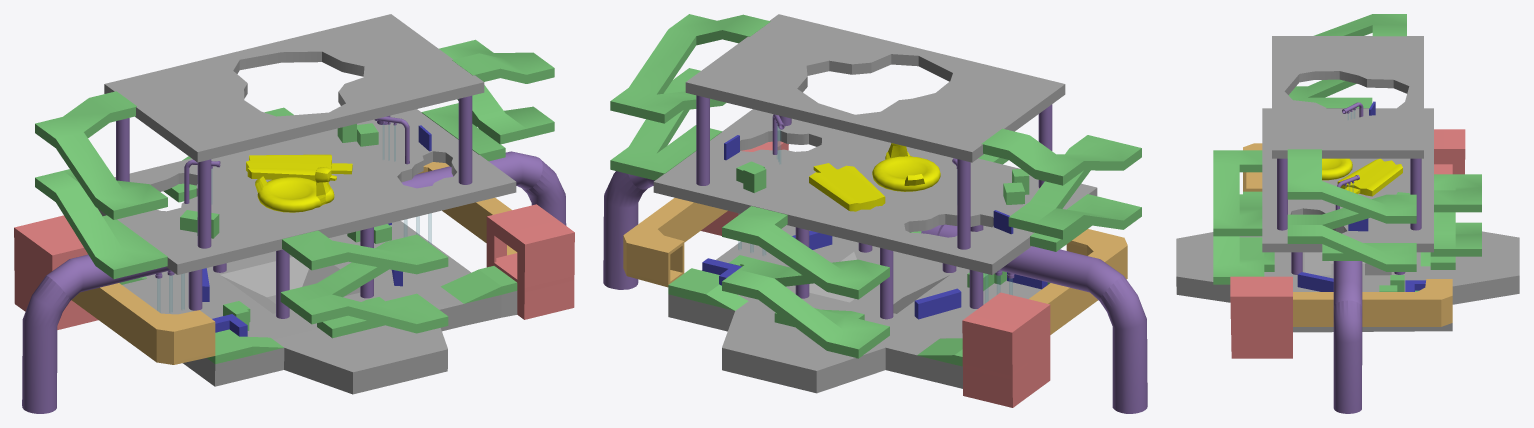
The model's file is Level_base_prototype_1.4.fbx.
The picture shows the model from 3 angles, left to right: view 1: azimuth 30°, elevation 25°; view 2: azimuth 150°, elevation 25°; view 3: azimuth 270°, elevation 25°; orthographic projection. The views are drawn at different scales.
Parts seen in each view (by area): view 1: level_base_1, level_base_2, level_base_3, Ramp_4, Ramp_2, Ramp_3, PIpe_L, Pipe_R, duck1, popsicle, Pillar_pipe_6, Pillar_pipe_4 (+5 smaller); view 2: level_base_1, level_base_2, level_base_3, Ramp_1, Ramp_3, Ramp_4, PIpe_L, Pipe_R, popsicle, duck1, Pillar_pipe_3, Pillar_pipe_5 (+6 smaller); view 3: level_base_1, level_base_3, Ramp_3, level_base_2, Ramp_2, Pipe_R, Ramp_1, Ramp_4, popsicle, Pillar_pipe_6, Pillar_pipe_5, duck1 (+1 smaller).
Boxes of the visible parts, left/top/right/bottom form: level_base_1: left=14, top=162, right=574, bottom=394; level_base_2: left=98, top=109, right=516, bottom=274; level_base_3: left=104, top=14, right=484, bottom=162; Ramp_4: left=35, top=91, right=167, bottom=279; Ramp_2: left=280, top=230, right=448, bottom=338; Ramp_3: left=421, top=39, right=554, bottom=161; PIpe_L: left=22, top=254, right=174, bottom=413; Pipe_R: left=401, top=151, right=566, bottom=225; duck1: left=255, top=167, right=336, bottom=212; popsicle: left=246, top=154, right=352, bottom=182; Pillar_pipe_6: left=458, top=95, right=472, bottom=184; Pillar_pipe_4: left=197, top=159, right=211, bottom=248; level_base_1: left=623, top=141, right=1127, bottom=407; level_base_2: left=653, top=109, right=1097, bottom=274; level_base_3: left=685, top=14, right=1065, bottom=162; Ramp_1: left=722, top=206, right=889, bottom=358; Ramp_3: left=610, top=14, right=770, bottom=180; Ramp_4: left=981, top=128, right=1141, bottom=251; PIpe_L: left=921, top=224, right=1147, bottom=413; Pipe_R: left=603, top=171, right=654, bottom=289; popsicle: left=809, top=163, right=885, bottom=211; duck1: left=872, top=143, right=940, bottom=191; Pillar_pipe_3: left=957, top=159, right=970, bottom=249; Pillar_pipe_5: left=696, top=95, right=709, bottom=185; level_base_1: left=1176, top=129, right=1519, bottom=358; level_base_3: left=1272, top=36, right=1423, bottom=158; Ramp_3: left=1287, top=149, right=1416, bottom=271; level_base_2: left=1262, top=108, right=1433, bottom=252; Ramp_2: left=1213, top=150, right=1274, bottom=284; Pipe_R: left=1333, top=261, right=1362, bottom=413; Ramp_1: left=1420, top=174, right=1481, bottom=269; Ramp_4: left=1288, top=14, right=1406, bottom=108; popsicle: left=1337, top=158, right=1402, bottom=196; Pillar_pipe_6: left=1277, top=158, right=1287, bottom=230; Pillar_pipe_5: left=1410, top=158, right=1421, bottom=230; duck1: left=1322, top=158, right=1352, bottom=180.
Bounding box in the file's own units: 2139 × 992 × 1443.
